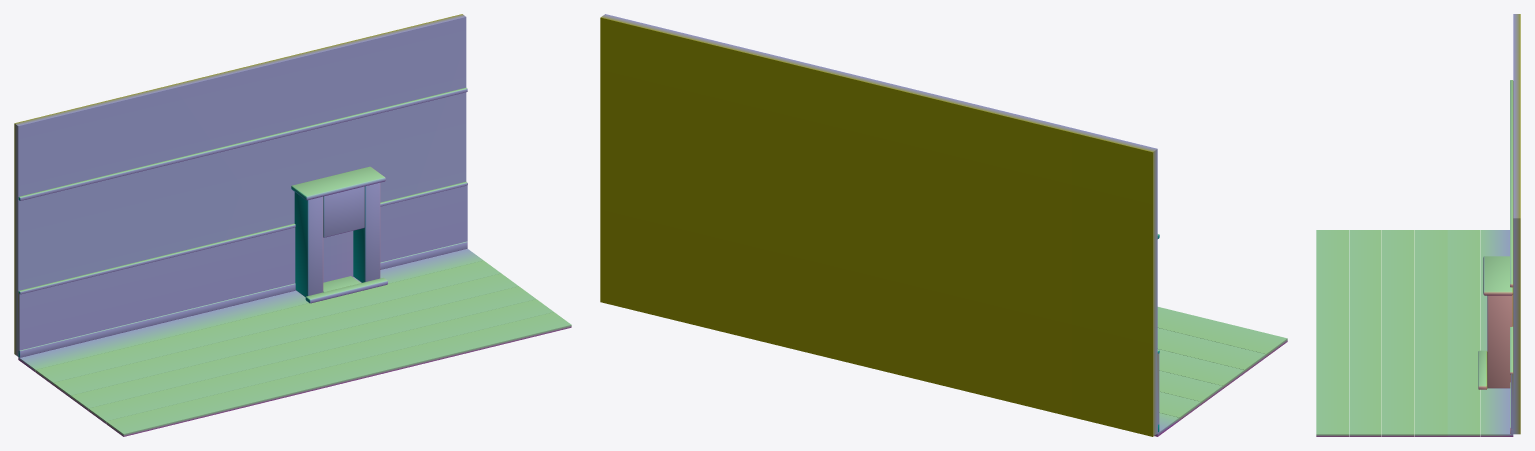
File: parlour_arch.glb
3 views of the same model, side by side, from view 1: azimuth 30°, elevation 25°; view 2: azimuth 150°, elevation 25°; view 3: azimuth 270°, elevation 25° (orthographic). The views are drawn at different scales.
Parts seen in each view (by area): view 1: parlour_arch; view 2: parlour_arch; view 3: parlour_arch.
Boxes of the visible parts, x1,y1,x2,y2 form: parlour_arch: (14, 14, 571, 436); parlour_arch: (600, 14, 1287, 436); parlour_arch: (1316, 14, 1520, 436).
Size of the model in its own units: 6.5 by 3.24 by 2.75.
